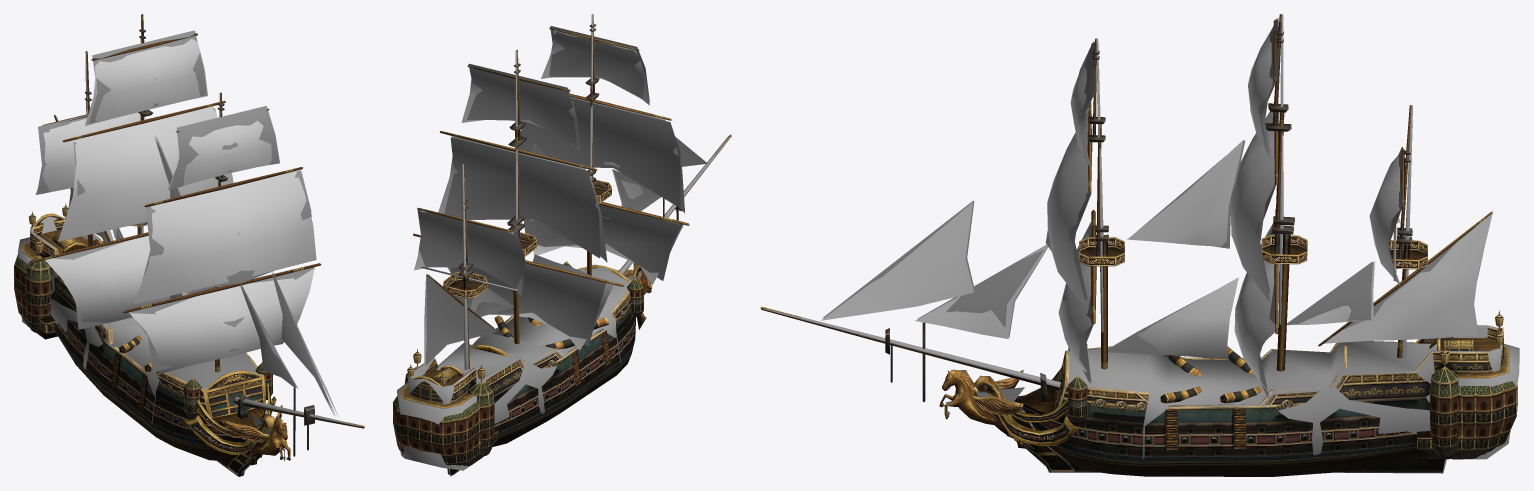
File: F_Ship_15.fbx
3 views of the same model, side by side, from view 1: azimuth 30°, elevation 25°; view 2: azimuth 150°, elevation 25°; view 3: azimuth 270°, elevation 25° (orthographic). The views are drawn at different scales.
Visible parts, largest first — view 1: F_Ship_15_sail, F_Ship_15, T_Ship_15_Fakeshadow; view 2: T_Ship_15_Fakeshadow, F_Ship_15, F_Ship_15_sail; view 3: F_Ship_15, F_Ship_15_sail, T_Ship_15_Fakeshadow.
Boxes of the visible parts, bbox=[...] form: F_Ship_15_sail: bbox=[35, 39, 338, 416]; F_Ship_15: bbox=[14, 14, 364, 476]; T_Ship_15_Fakeshadow: bbox=[18, 14, 361, 473]; T_Ship_15_Fakeshadow: bbox=[397, 14, 730, 476]; F_Ship_15: bbox=[393, 14, 731, 475]; F_Ship_15_sail: bbox=[414, 30, 684, 365]; F_Ship_15: bbox=[760, 14, 1517, 476]; F_Ship_15_sail: bbox=[821, 28, 1492, 397]; T_Ship_15_Fakeshadow: bbox=[763, 14, 1519, 473].
Bounding box in the file's own units: 0.535 × 0.9161 × 1.37.
